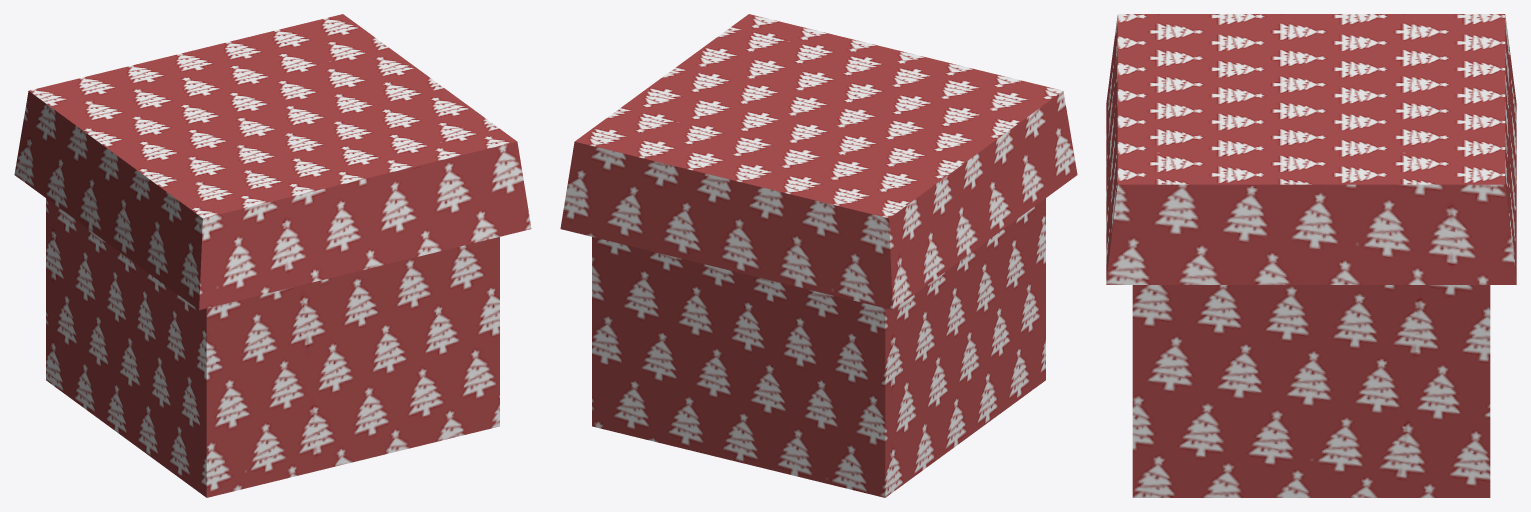
File: M_Gift_06.FBX
3 renders of one model, left to right at view 1: azimuth 30°, elevation 25°; view 2: azimuth 150°, elevation 25°; view 3: azimuth 270°, elevation 25°, orthographic. The views are drawn at different scales.
Parts seen in each view (by area): view 1: Object011; view 2: Object011; view 3: Object011.
Boxes of the visible parts, x1,y1,x2,y2 form: Object011: (14, 14, 531, 497); Object011: (560, 14, 1077, 497); Object011: (1106, 14, 1516, 497).
Bounding box in the file's own units: 50.39 × 41.59 × 48.49.
